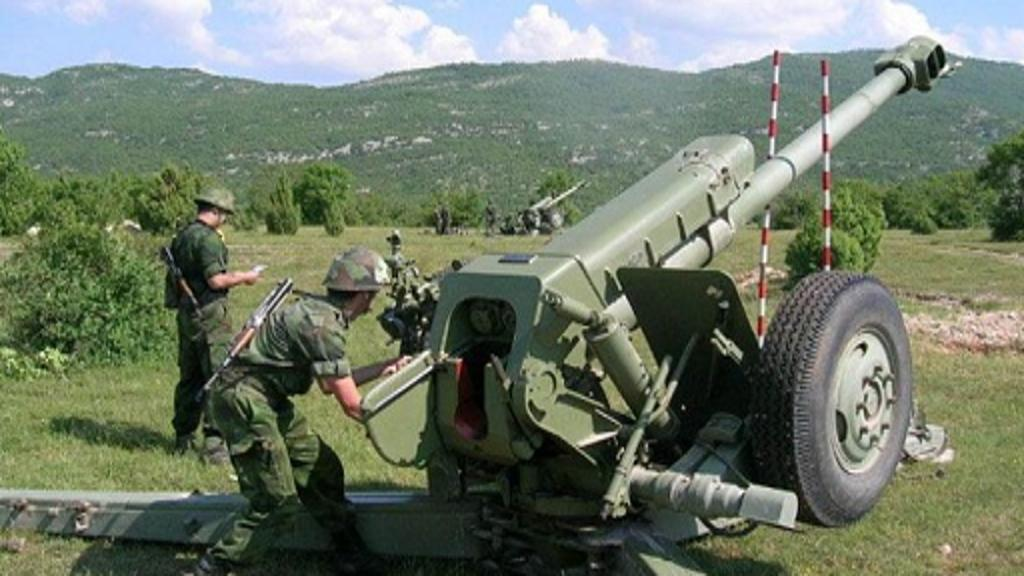ART: (0, 30, 954, 561)
